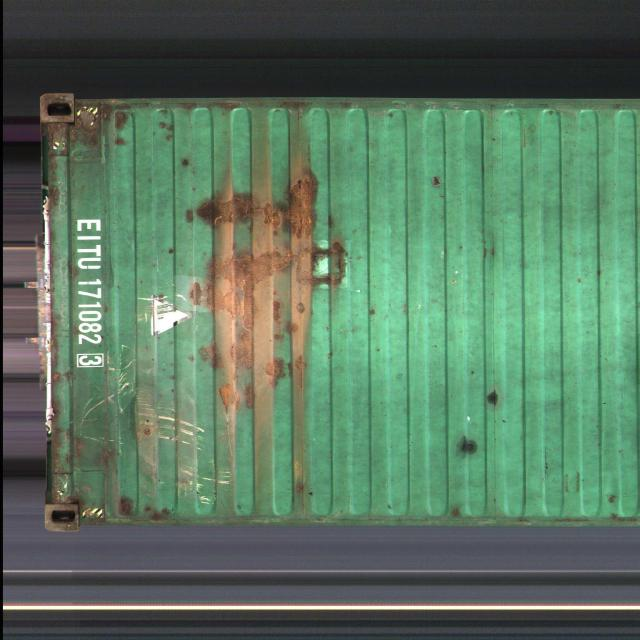rust: (193, 167, 346, 407), (64, 102, 132, 153), (57, 429, 123, 470), (114, 495, 183, 523)
